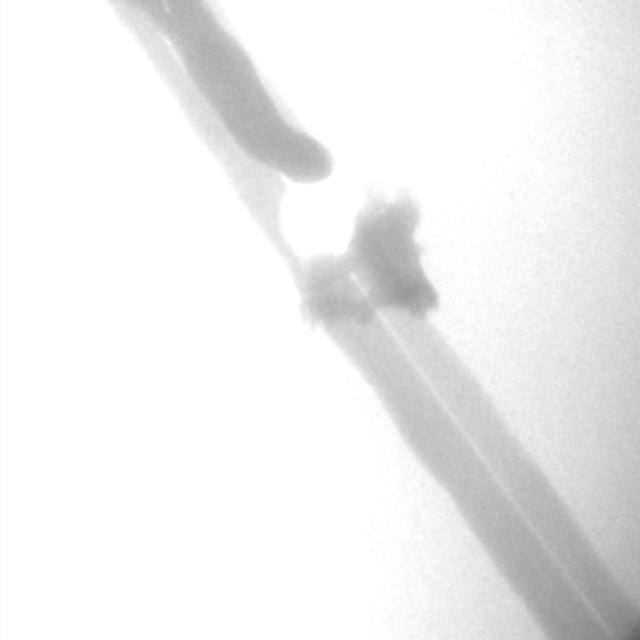broken arc: (161, 33, 611, 634)
